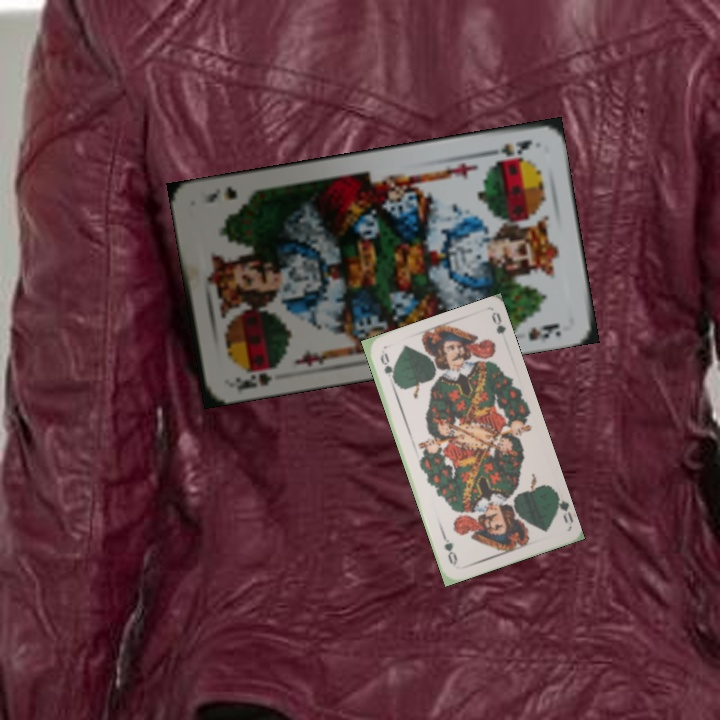GO: (376, 349, 399, 387), (551, 488, 574, 526)
SK: (480, 135, 535, 160), (231, 368, 275, 394)
